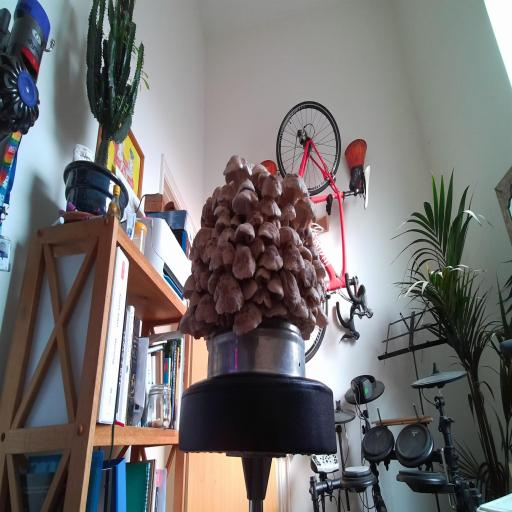Shiitake Mushroom: (217, 143, 258, 197), (223, 296, 270, 338), (273, 261, 306, 317), (290, 255, 325, 300), (278, 164, 311, 210), (294, 276, 331, 315), (186, 217, 219, 258), (287, 191, 319, 233), (213, 271, 244, 314), (251, 215, 290, 248), (208, 178, 244, 212), (181, 306, 214, 343), (280, 239, 307, 279), (262, 269, 290, 307), (240, 202, 271, 235), (255, 242, 287, 271), (244, 232, 272, 263), (232, 244, 256, 280), (194, 291, 219, 325), (198, 231, 221, 267), (245, 156, 270, 189), (176, 271, 202, 302), (209, 241, 236, 270), (209, 208, 237, 234), (257, 193, 282, 222), (186, 254, 213, 280), (292, 294, 314, 325), (232, 188, 258, 214), (239, 272, 261, 302), (203, 265, 223, 296), (261, 172, 283, 200), (234, 219, 256, 246), (277, 199, 298, 227), (310, 253, 329, 283), (292, 242, 318, 263), (201, 195, 218, 227), (253, 163, 273, 190), (178, 303, 194, 336), (184, 286, 205, 311), (278, 225, 303, 246), (252, 282, 272, 308), (225, 210, 246, 232), (215, 226, 238, 246), (208, 182, 222, 214), (296, 220, 313, 245), (197, 266, 212, 293), (264, 301, 288, 317), (253, 265, 273, 283), (315, 276, 331, 298), (312, 282, 328, 303), (305, 312, 321, 331), (236, 177, 256, 192), (212, 203, 232, 218), (316, 306, 329, 328), (268, 214, 284, 230), (309, 242, 321, 263), (209, 225, 222, 243)
